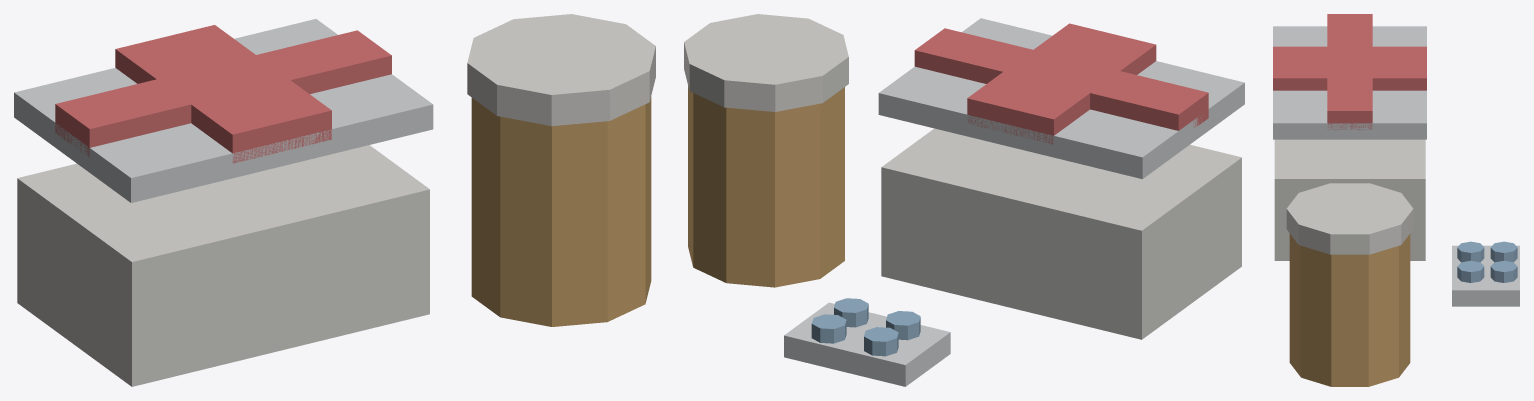
File: aces_caixa_remedios.glb
3 views of the same model, side by side, from view 1: azimuth 30°, elevation 25°; view 2: azimuth 150°, elevation 25°; view 3: azimuth 270°, elevation 25° (orthographic). The views are drawn at different scales.
Parts seen in each view (by area): view 1: ACES_CAIXA_REMEDIOS; view 2: ACES_CAIXA_REMEDIOS; view 3: ACES_CAIXA_REMEDIOS.
Boxes of the visible parts, x1,y1,x2,y2 form: ACES_CAIXA_REMEDIOS: (14, 14, 655, 386); ACES_CAIXA_REMEDIOS: (684, 14, 1244, 386); ACES_CAIXA_REMEDIOS: (1273, 14, 1519, 386).
Size of the model in its own units: 0.2859 by 0.14 by 0.1635.
